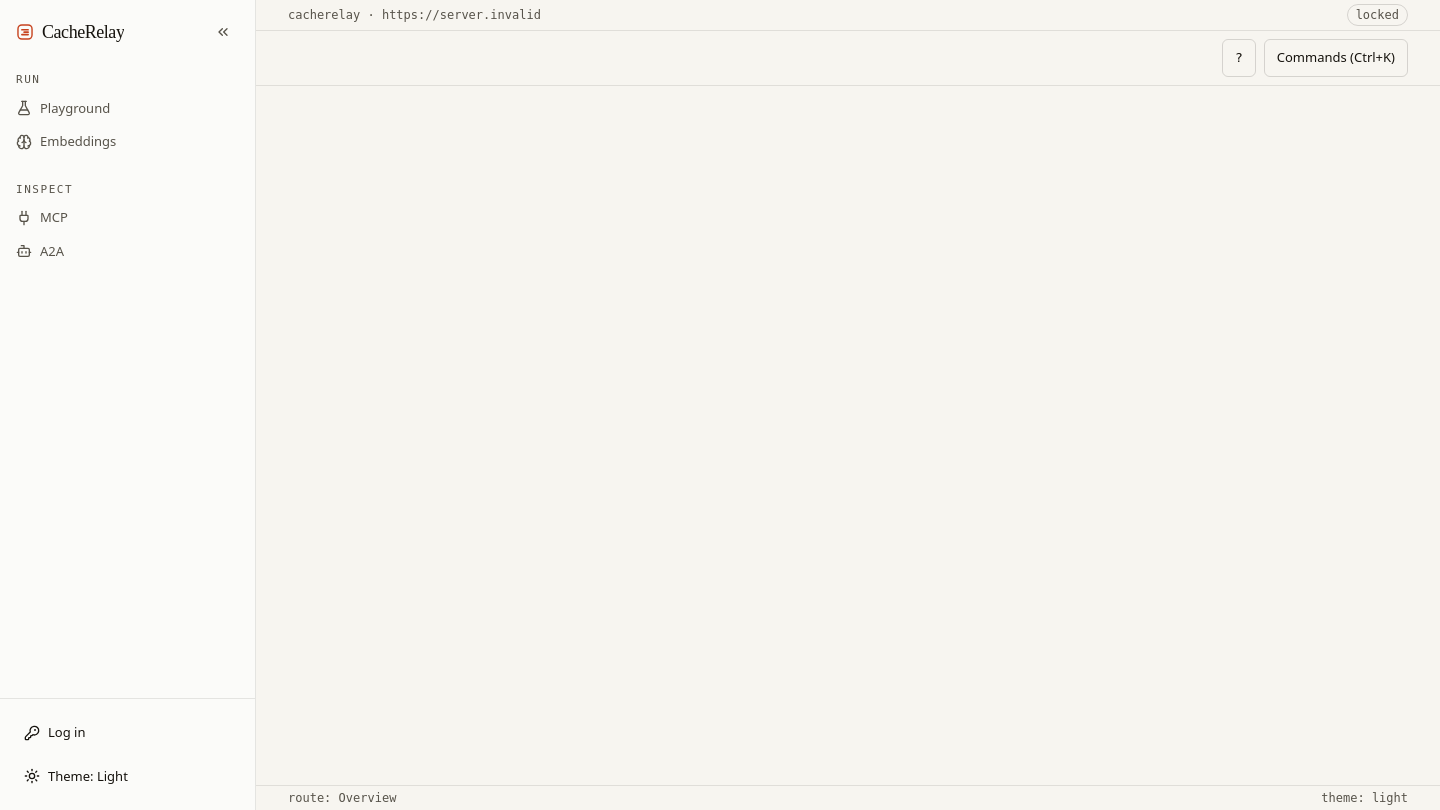
Test case: Layout › cycles the theme on the document root
Click the button "Theme: Light" at (128, 776), box [16,758,239,794]
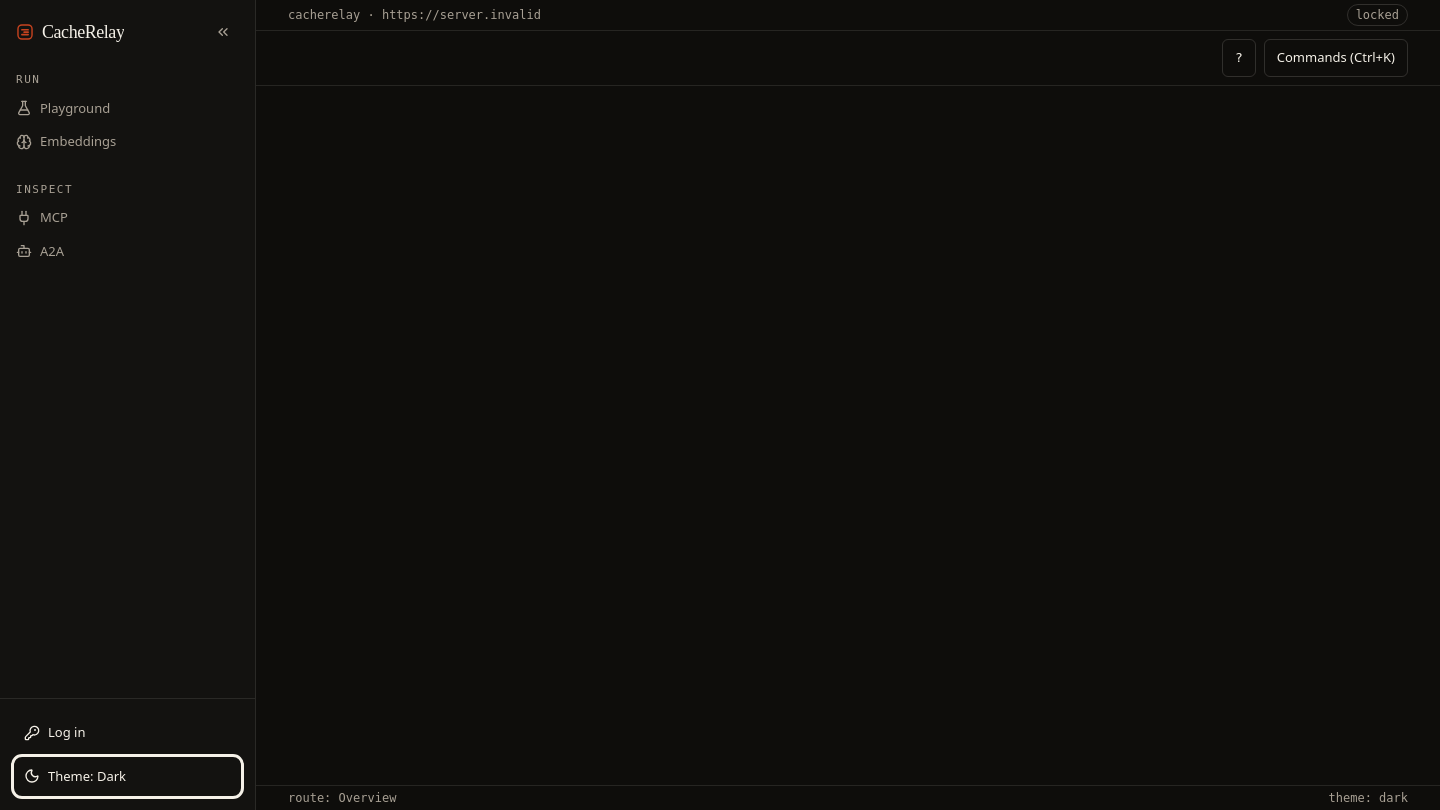
Now the text "theme: dark" is shown, box [1328,790,1408,806]
Click the button "Theme: Dark" at (128, 776), box [16,758,239,794]
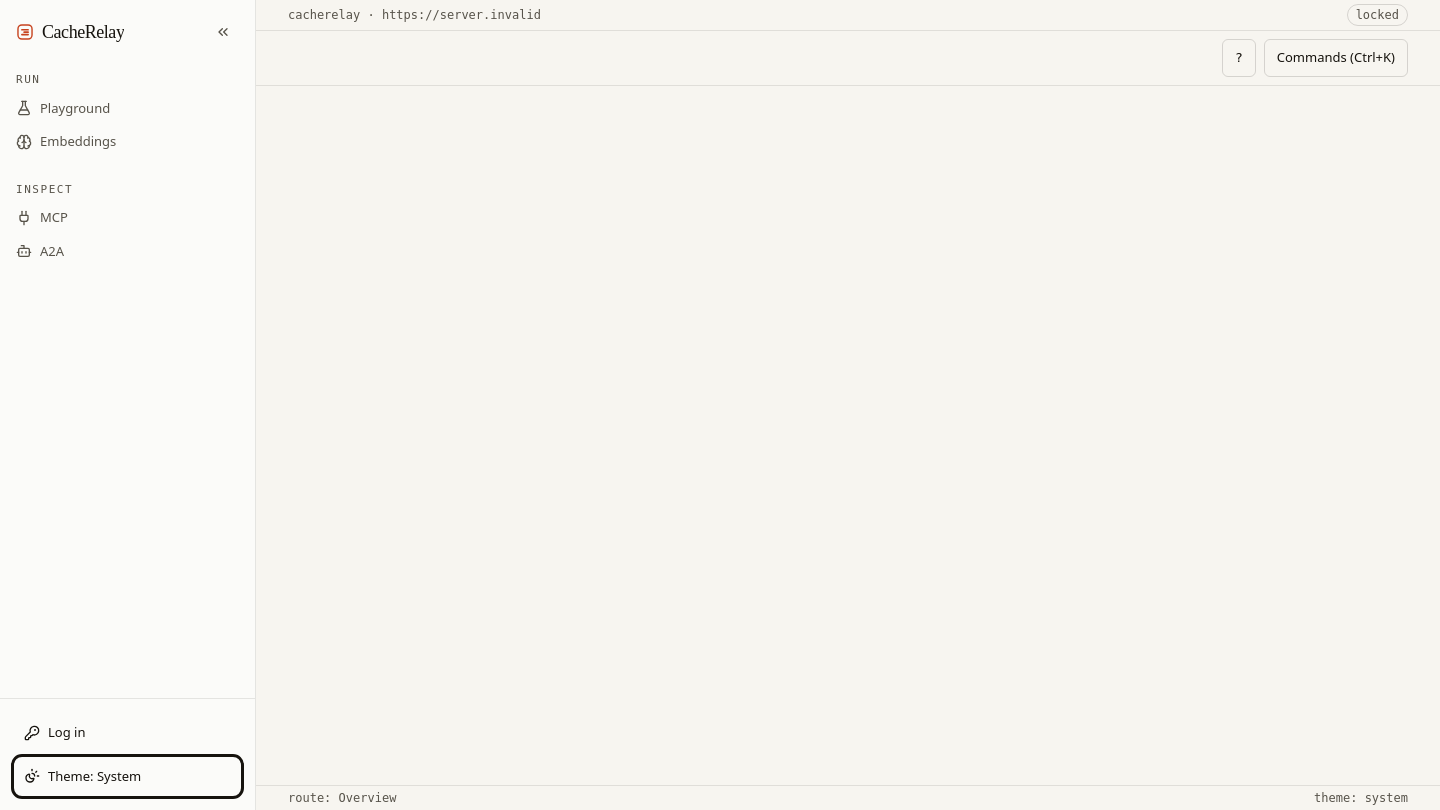
Now the text "theme: system" is shown, box [1314,790,1408,806]
